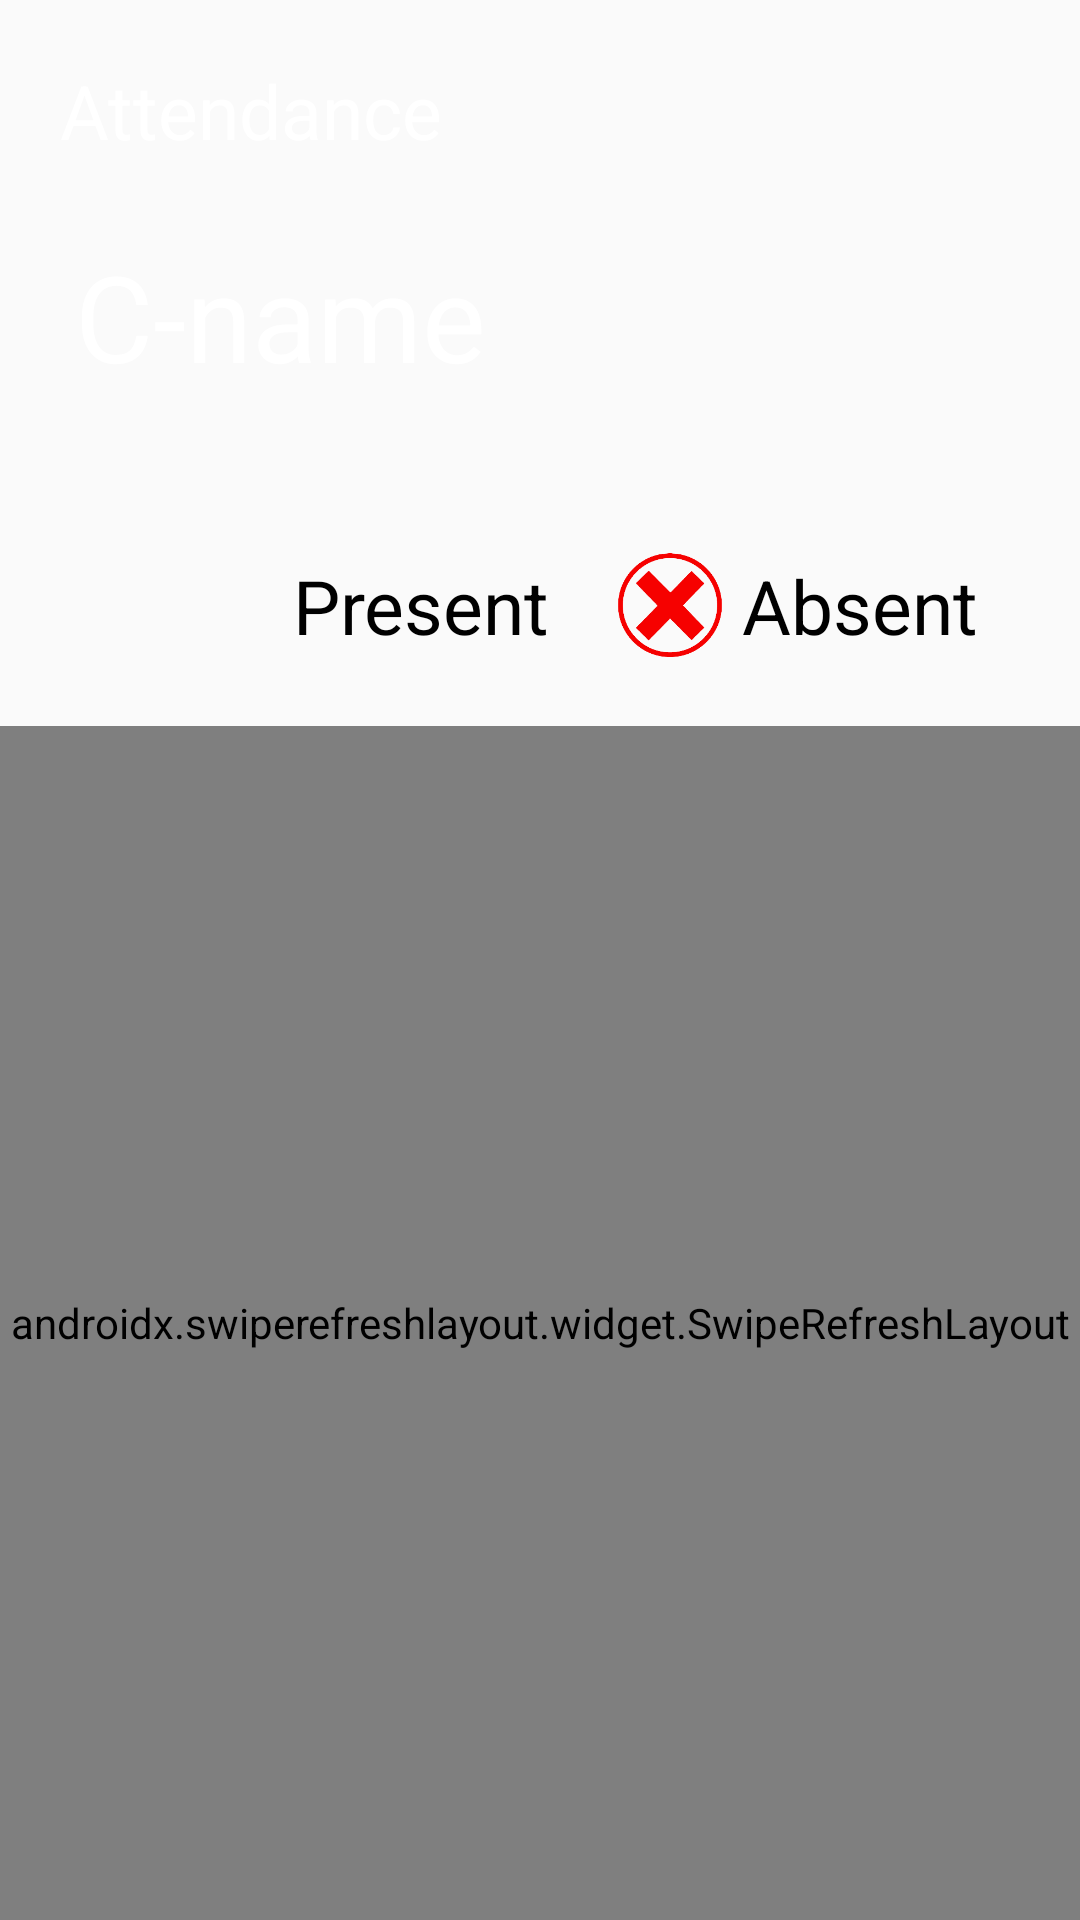

Screen size 1080 × 1920. Icon name, then its box in pixels as (x1, y1, x2, y2):
cross: (618, 553, 722, 657)
